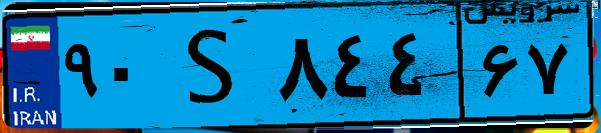0: (110, 28, 158, 98)
4: (385, 28, 445, 110), (330, 28, 385, 110)
6: (475, 38, 525, 113)
7: (525, 38, 570, 115)
8: (270, 28, 330, 110)
9: (57, 26, 110, 100)
S: (158, 12, 270, 120)
